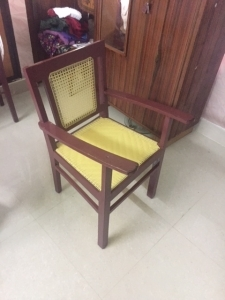chair: (23, 41, 193, 249)
